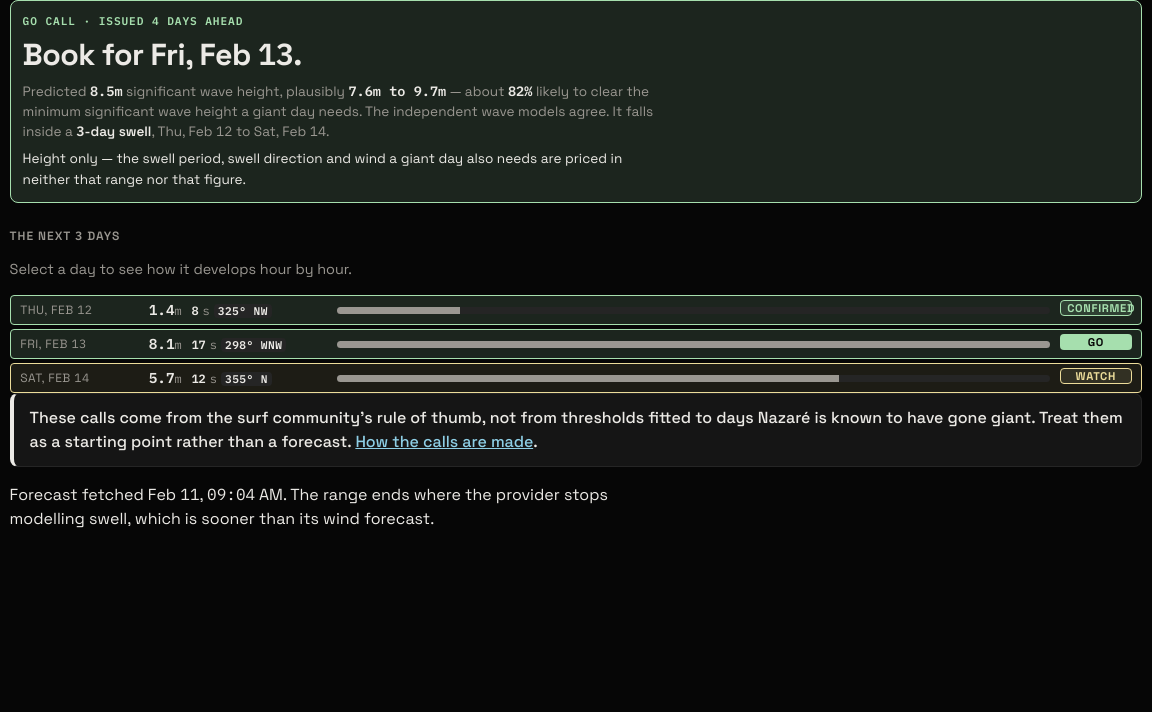
Test: calls › claims nothing about how the height was produced given an unrecognised model
Click the button with aria-label "2026-02-13" at (576, 344), box [10,329,1142,359]
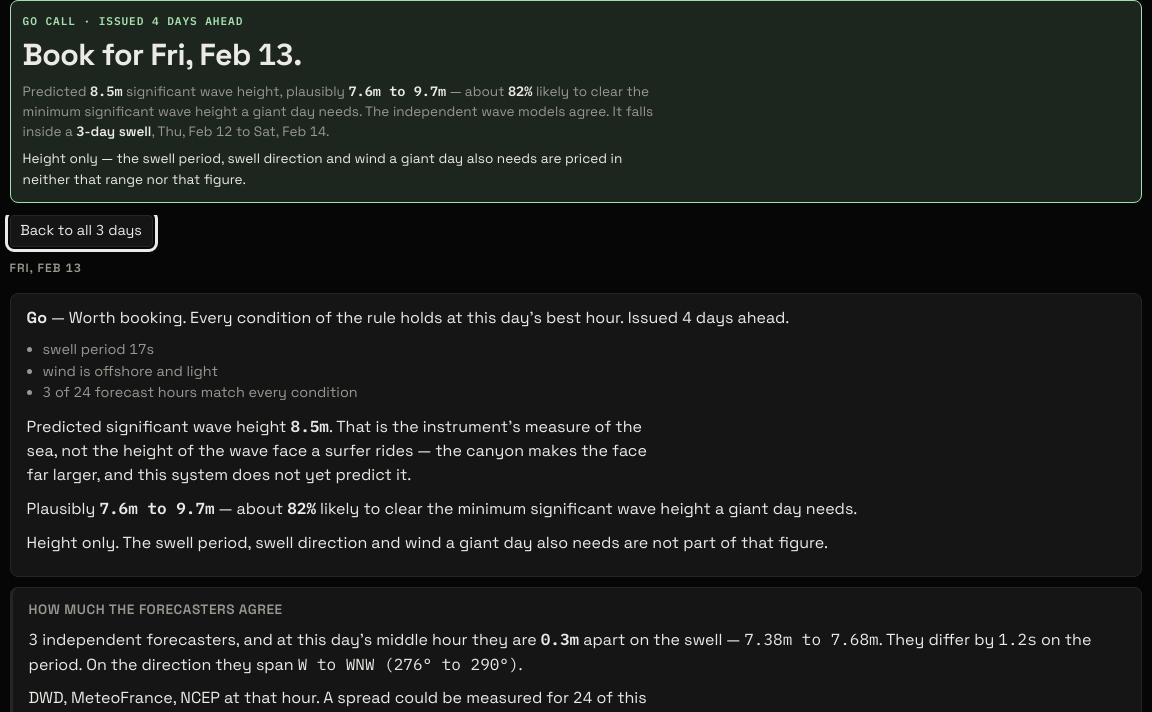
expect the element named "Why Fri, Feb 13" does not show "carried through unchanged": met, box [10,292,1142,577]
expect the element named "Why Fri, Feb 13" shows "not the height of the wave face": met, box [27,416,647,484]
